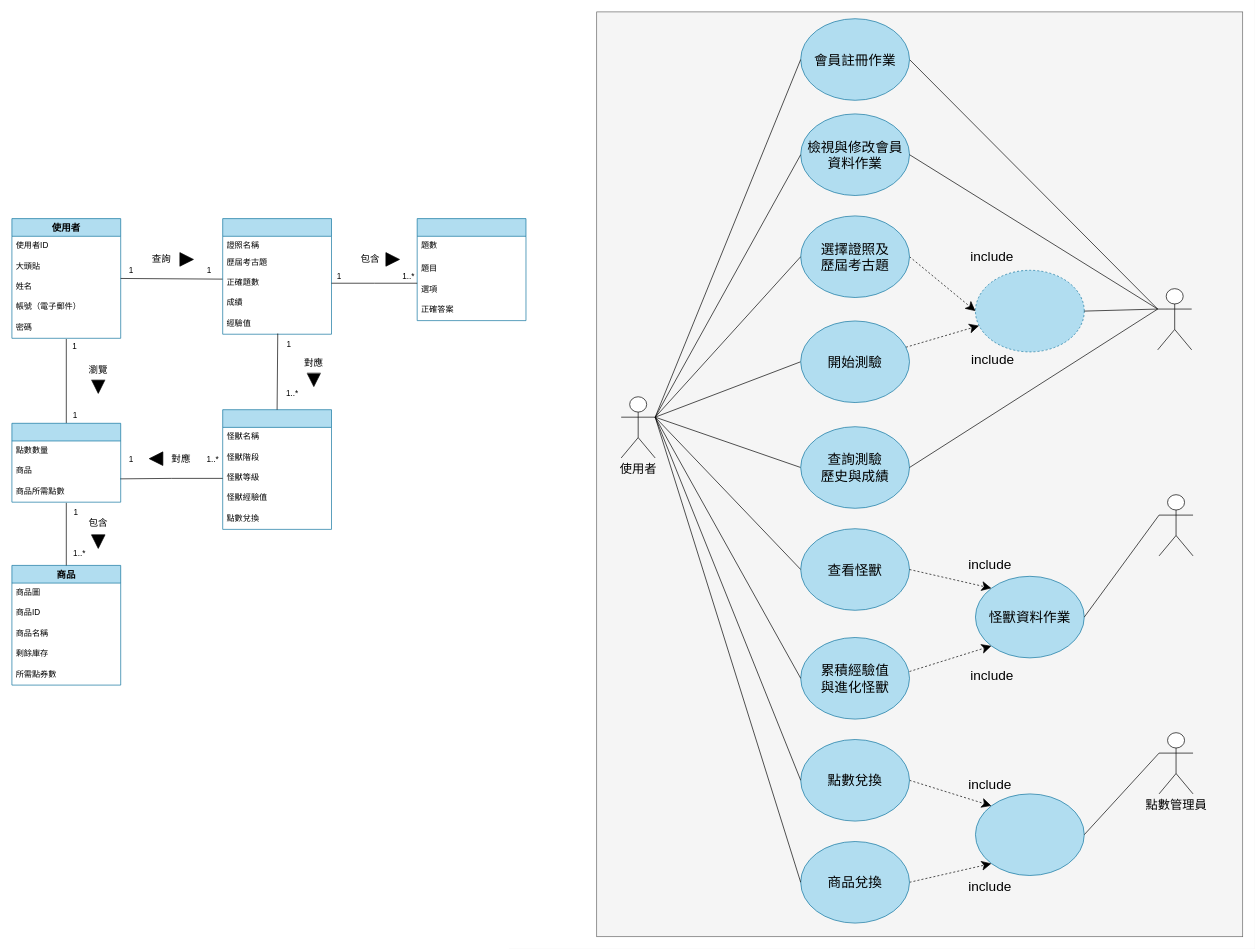
This 1255x949 diagram has some shape labels left out. Each missing label, with the box of its shape:
商店: (11, 423, 121, 502)
怪獸: (222, 409, 332, 529)
怪獸管理員: (1158, 494, 1193, 556)
測驗紀錄: (222, 218, 332, 334)
系統管理員: (1157, 288, 1192, 350)
證照資料作業: (975, 270, 1084, 352)
題庫資料: (417, 218, 526, 321)
點數管理作業: (975, 793, 1084, 876)
